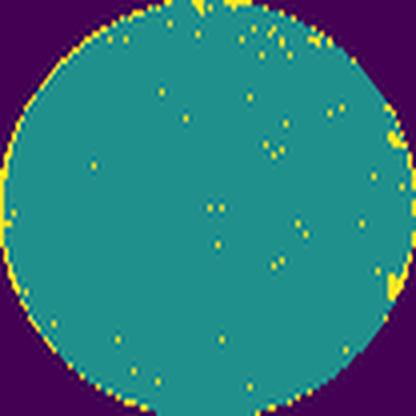Donut: (0, 0, 172, 416)
